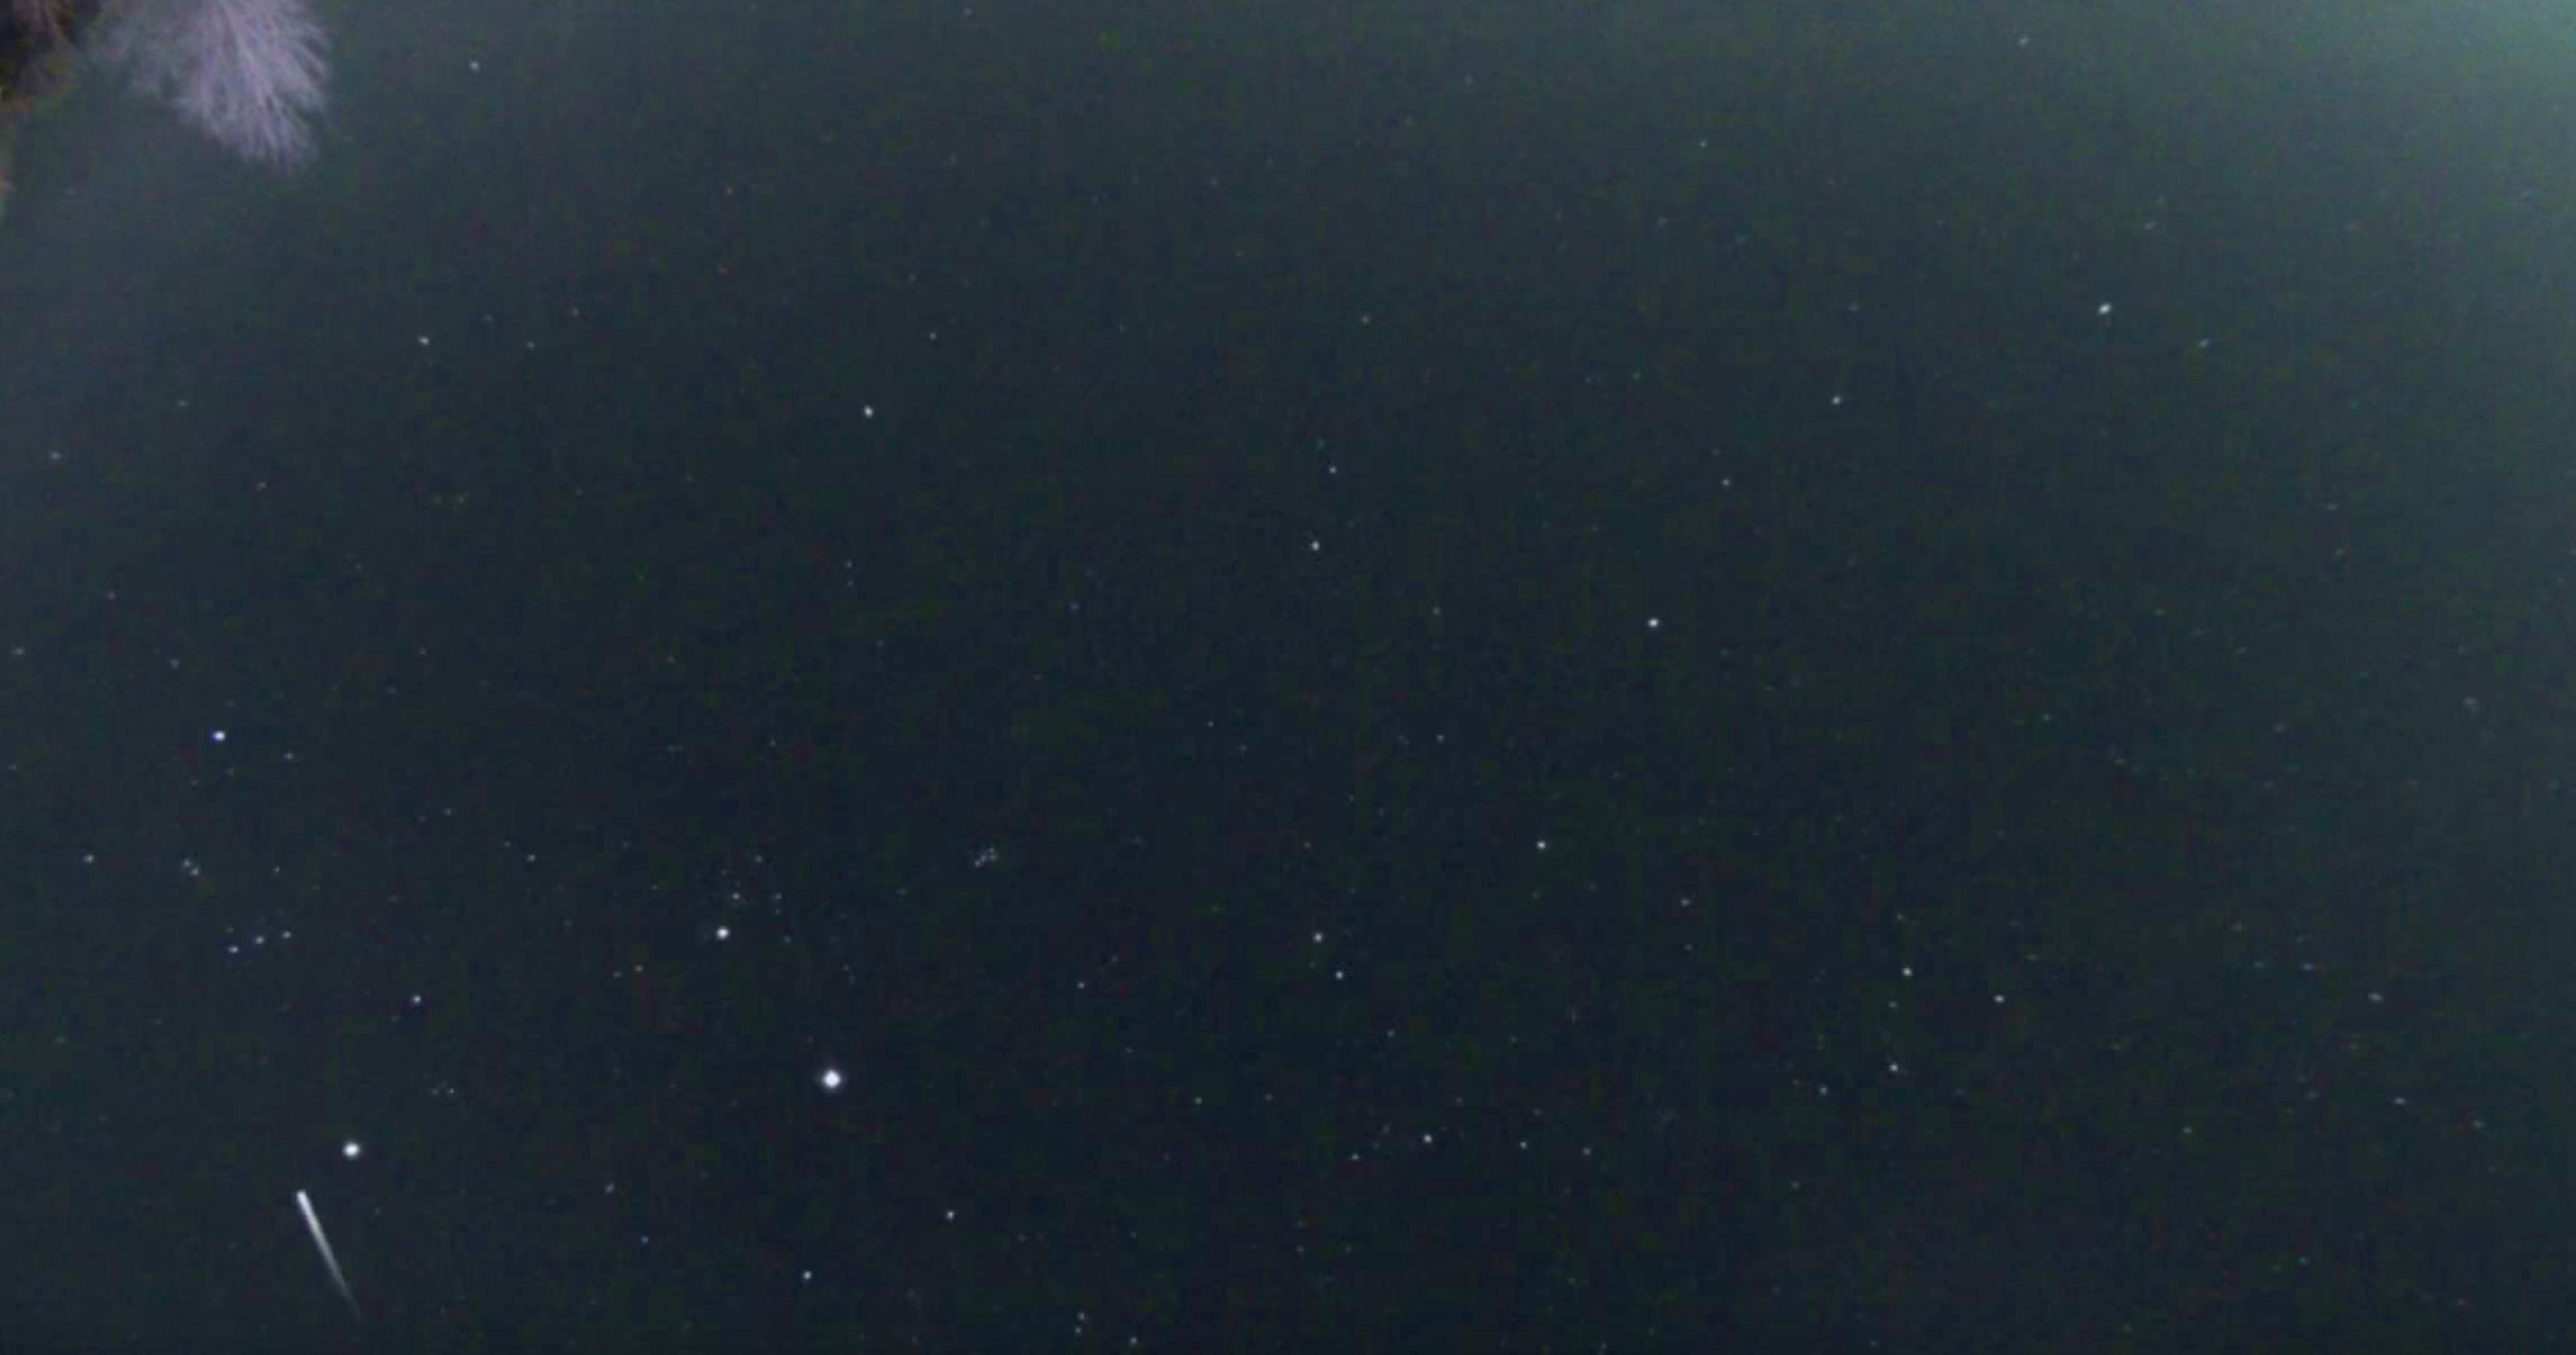meteorite: (254, 1140, 394, 1352)
